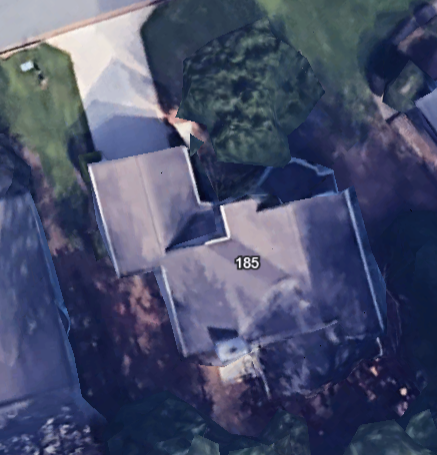driveway: (46, 4, 183, 165)
